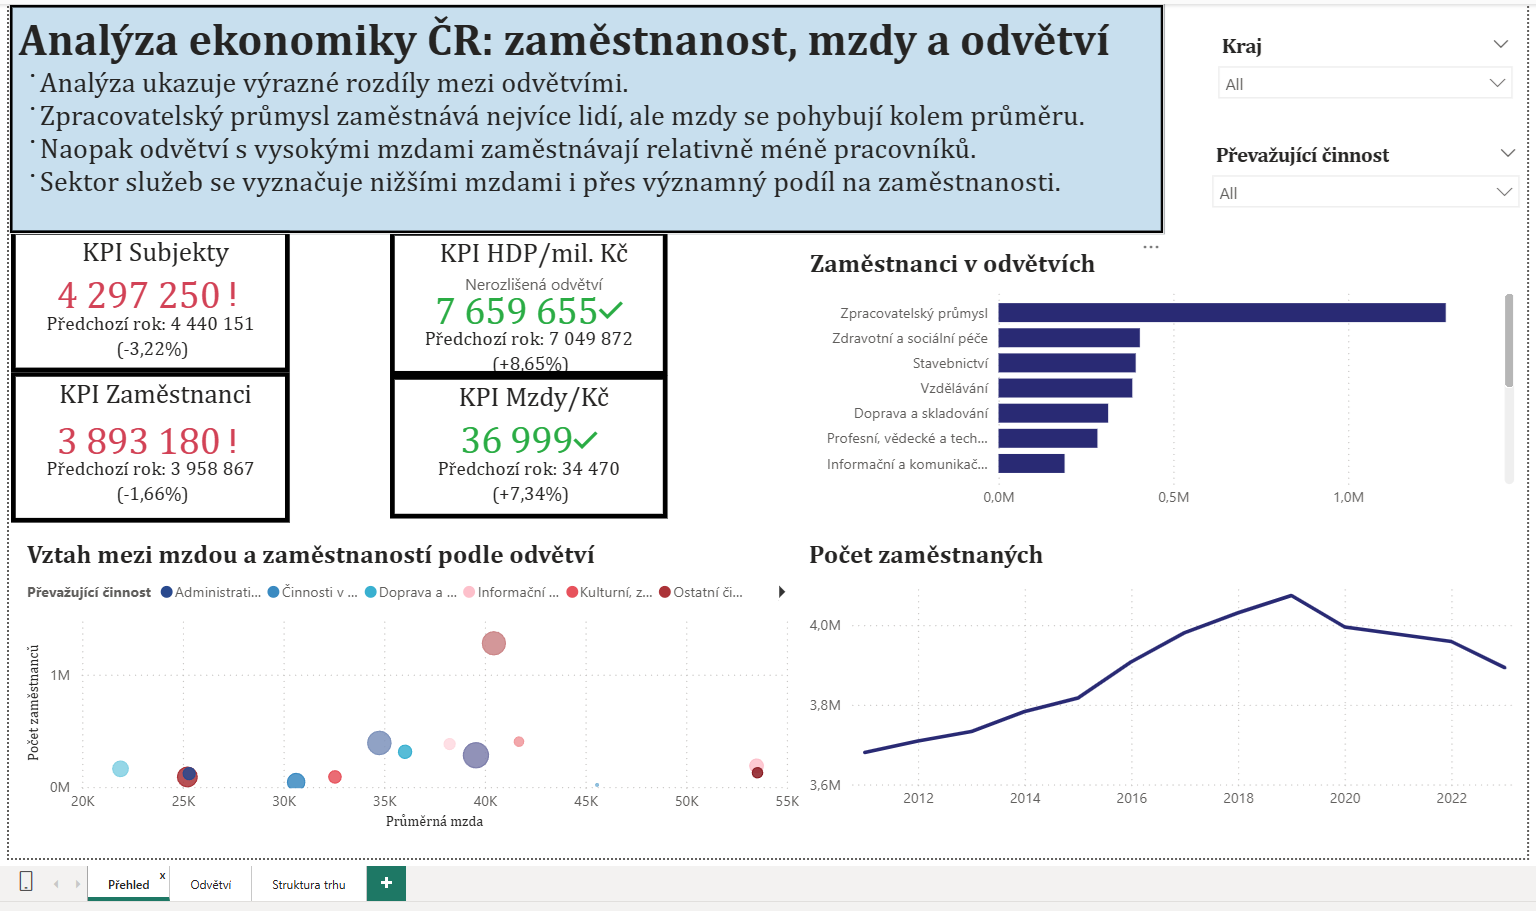

What the dashboard file says about the page in this screenshot:
{"tool":"powerbi","page":{"name":"Page 1","canvas":[1280,720],"ordinal":0},"visuals":[{"type":"kpi","title":"KPI Zaměstnanci","fields":{"Indicator":["fact_zamestnanci_odvetvi.Zamestnanci_celkem"],"TrendLine":["dim_roky.Rok_date"],"Goal":["fact_zamestnanci_odvetvi.Zamestnanci_PY"]},"box":[1.4,310.7,235.4,126.8],"z":0},{"type":"kpi","title":"KPI Subjekty","fields":{"TrendLine":["dim_roky.Rok_date"],"Goal":["fact_ekonomicke_subjekty.Subjekty_PY"],"Indicator":["fact_ekonomicke_subjekty.Subjekty_celkem"]},"box":[1.4,190.9,235.4,119.8],"z":1000},{"type":"kpi","title":"KPI HDP/mil. Kč","fields":{"TrendLine":["dim_roky.Rok_date"],"Goal":["fact_hdp.HDP_PY"],"Indicator":["fact_hdp.Celkem_HDP"]},"box":[321.5,191.7,234,121.9],"z":2000},{"type":"kpi","title":"KPI Mzdy/Kč","fields":{"TrendLine":["dim_roky.Rok_date"],"Goal":["fact_mzdy_odvetvi.Mzdy_PY"],"Indicator":["fact_mzdy_odvetvi.Prumerna_mzda"]},"box":[321.5,312.6,234,120.9],"z":3000},{"type":"slicer","fields":{"Values":["dim_kraj csv.Kraj"]},"box":[1012.8,23.7,261.9,73.8],"z":4000},{"type":"slicer","fields":{"Values":["dim_prevazujici_cinnost.Převažující činnost"]},"box":[1007.2,115.6,273.1,75.2],"z":5000},{"type":"lineChart","title":"Počet zaměstnaných","fields":{"Y":["fact_zamestnanci_odvetvi.Zamestnanci_celkem"],"Category":["dim_roky.Rok_date.Variation.Date Hierarchy.Year"]},"box":[669.5,451.2,609.5,236.9],"z":6000},{"type":"barChart","title":"Zaměstnanci v odvětvích","fields":{"Y":["fact_zamestnanci_odvetvi.Zamestnanci_celkem"],"Category":["fact_zamestnanci_odvetvi.Převažující činnost"]},"box":[670.5,205.5,603.6,228.1],"z":7000},{"type":"scatterChart","title":"Vztah mezi mzdou a zaměstnaností podle odvětví","fields":{"X":["fact_mzdy_odvetvi.Prumerna_mzda"],"Y":["fact_zamestnanci_odvetvi.Zamestnanci_celkem"],"Series":["dim_prevazujici_cinnost.Převažující činnost"],"Size":["fact_ekonomicke_subjekty.Subjekty_celkem"]},"box":[9.8,451.2,660.6,249.7],"z":8000},{"type":"textbox","box":[0,0,973.8,193.6],"z":9000}]}

Visuals, with their boxes on the page's 1280x720 design canvas (x1, y1, x2, y2). These are canvas units, not pixel positions in the 1536x911 screenshot, which may show the page scaled, cropped or inside an application window:
"KPI Zaměstnanci" kpi: 1, 311, 237, 438
"KPI Subjekty" kpi: 1, 191, 237, 311
"KPI HDP/mil. Kč" kpi: 322, 192, 556, 314
"KPI Mzdy/Kč" kpi: 322, 313, 556, 434
slicer - dim_kraj csv.Kraj: 1013, 24, 1275, 98
slicer - dim_prevazujici_cinnost.Převažující činnost: 1007, 116, 1280, 191
"Počet zaměstnaných" lineChart: 670, 451, 1279, 688
"Zaměstnanci v odvětvích" barChart: 670, 206, 1274, 434
"Vztah mezi mzdou a zaměstnaností podle odvětví" scatterChart: 10, 451, 670, 701
textbox: 0, 0, 974, 194
